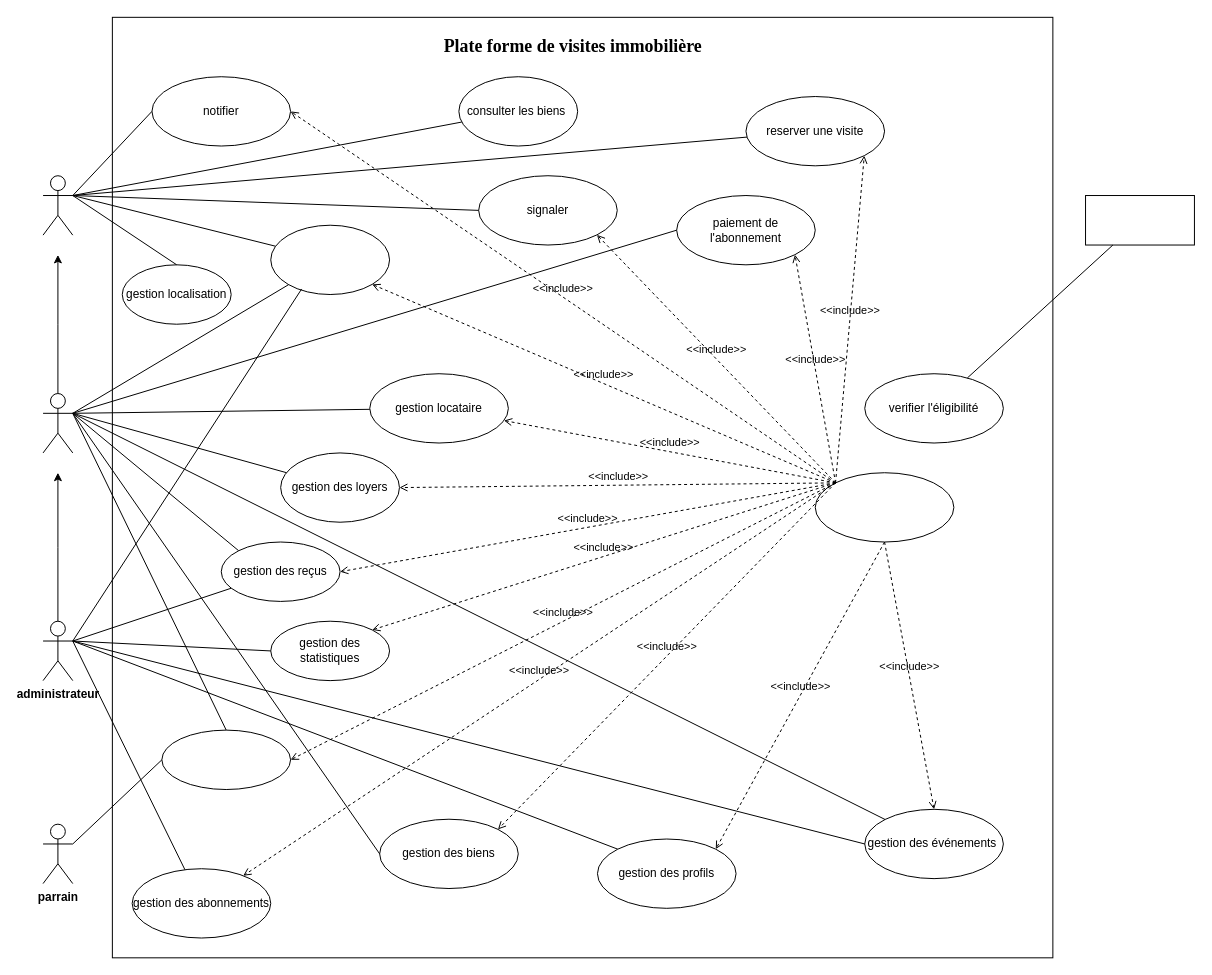
This 1212x975 diagram has some shape labels left out. Each missing label, with the centre of its shape:
"Bailleur" goes at point (57, 423).
"consultaion des gains" goes at point (226, 759).
"s'authentifer" goes at point (884, 507).
"s'inscrire" goes at point (330, 259).
"Système de paiment" goes at point (1139, 220).
"Visiteur" goes at point (57, 205).
